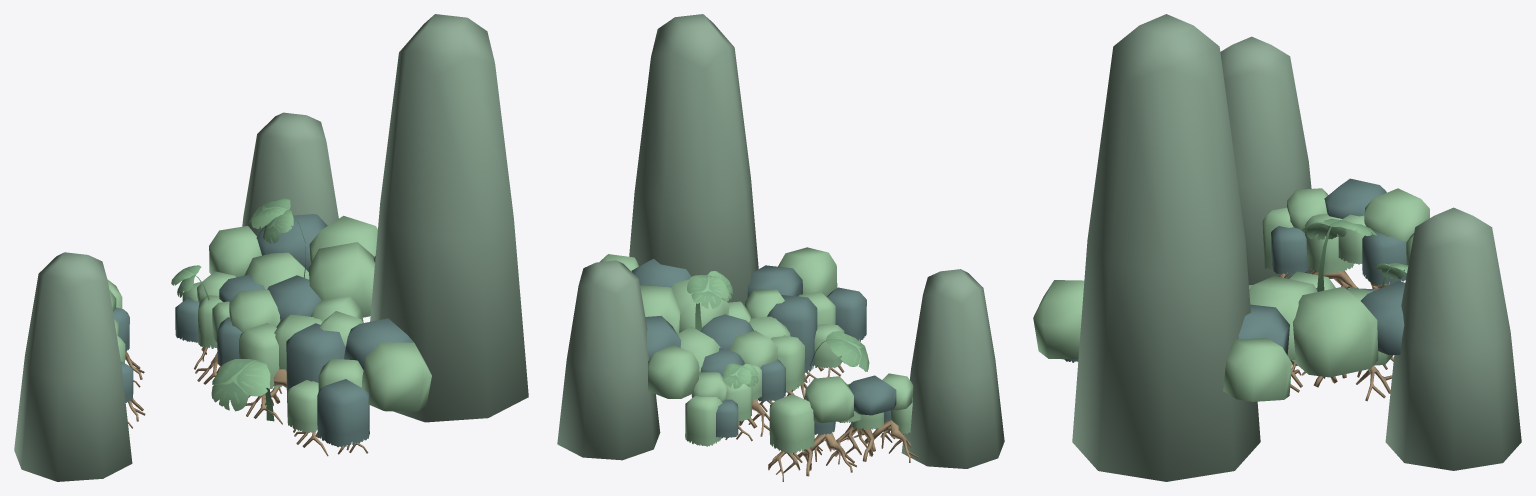
Rendered from test ground.fbx.
3 renders of one model, left to right at view 1: azimuth 30°, elevation 25°; view 2: azimuth 150°, elevation 25°; view 3: azimuth 270°, elevation 25°, orthographic. The views are drawn at different scales.
Parts seen in each view (by area): view 1: Cube.002, tree bush, stalk'.002, wood.001, TREE bush; view 2: Cube.002, tree bush, TREE bush, stalk'.002, wood.001; view 3: Cube.002, tree bush, TREE bush, stalk'.002, wood.001.
Part boxes in pixels (x1=…): Cube.002: x1=14, y1=14, x2=528, y2=481; tree bush: x1=175, y1=214, x2=431, y2=447; stalk'.002: x1=171, y1=198, x2=305, y2=421; wood.001: x1=125, y1=346, x2=368, y2=456; TREE bush: x1=107, y1=279, x2=133, y2=402; Cube.002: x1=557, y1=14, x2=1004, y2=468; tree bush: x1=600, y1=247, x2=866, y2=446; TREE bush: x1=769, y1=373, x2=913, y2=453; stalk'.002: x1=687, y1=271, x2=869, y2=388; wood.001: x1=725, y1=361, x2=918, y2=481; Cube.002: x1=1072, y1=14, x2=1521, y2=481; tree bush: x1=1033, y1=271, x2=1405, y2=401; TREE bush: x1=1262, y1=178, x2=1429, y2=285; stalk'.002: x1=1302, y1=218, x2=1408, y2=291; wood.001: x1=1278, y1=267, x2=1393, y2=401.
Size of what is drawn, in the model's own units: 25430 by 19923 by 20373.
